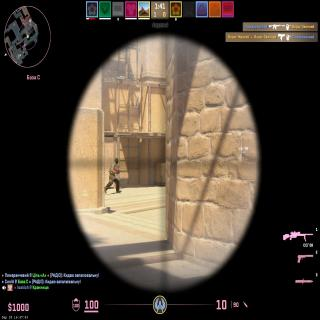T-Body: (105, 158, 120, 193)
T-Head: (115, 158, 118, 164)
